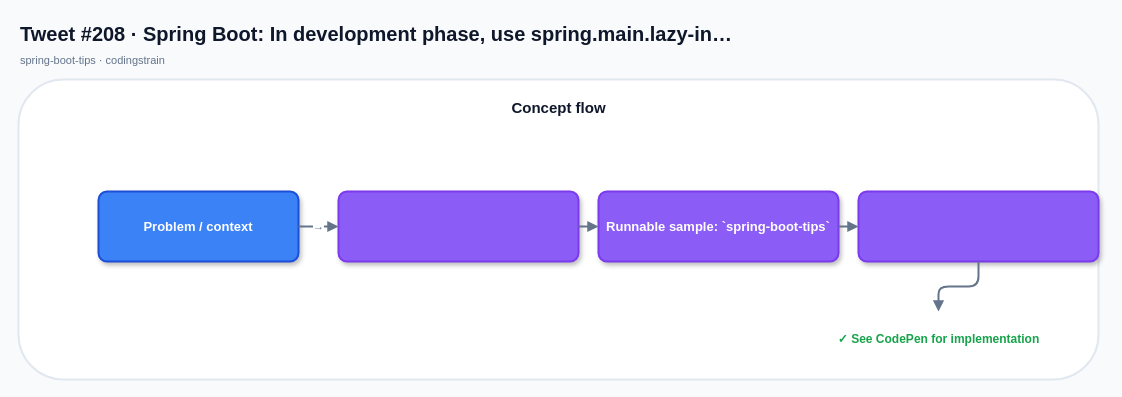
Some shapes in this 1122 by 397 pixel diagram are drawn without their labels. The shapes that lost their labels are listed below. From the top down, each one's centre as x and y in pixels, then its label:
At [459,227]: "#SpringBoot #JavaDev".
At [979,227]: "Architecture diagram + Carbon CodePen below".
